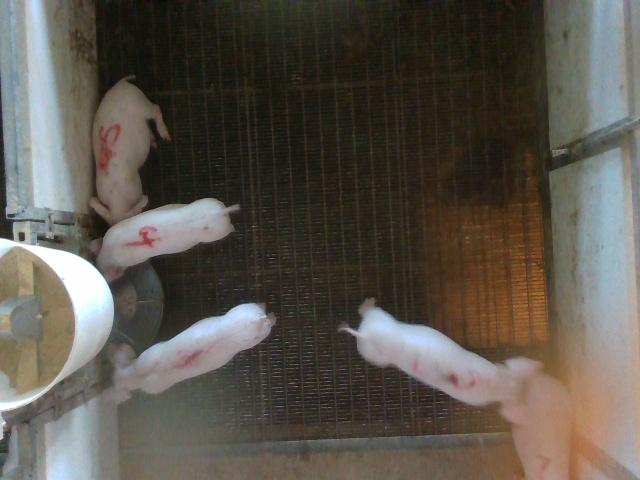pig-1: (104, 304, 275, 403)
pig-3: (341, 299, 541, 424)
pig-4: (96, 198, 238, 281)
pig-5: (90, 75, 170, 225)
